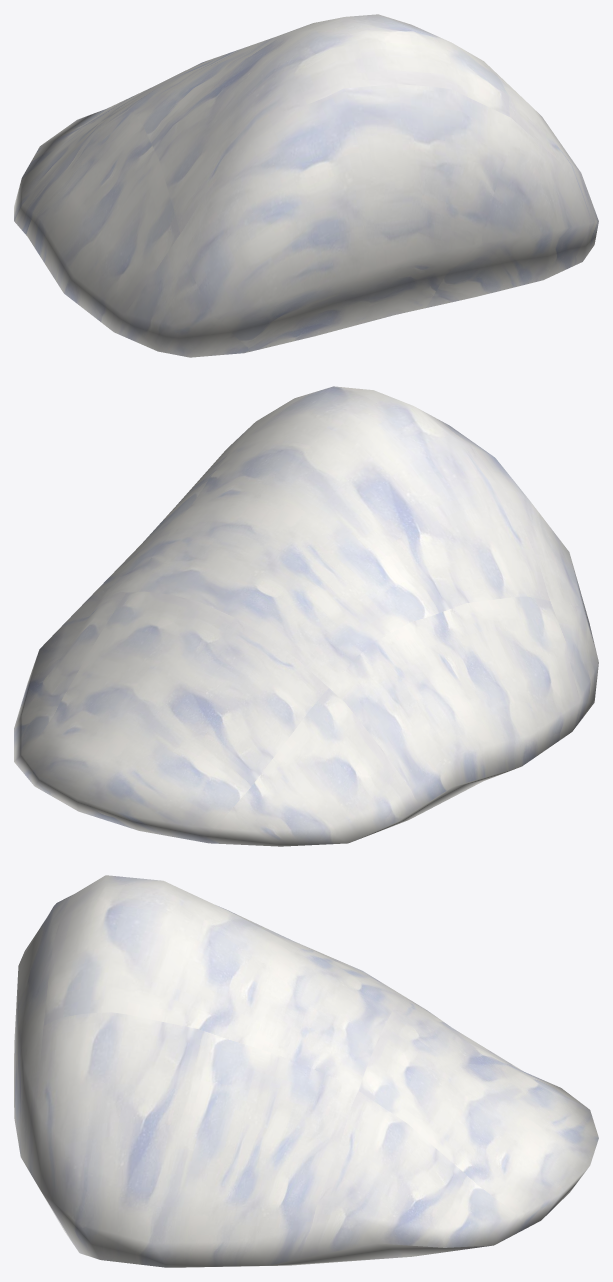
Rendered from snowrocksmall.fbx.
The picture shows the model from 3 angles, top to bottom: view 1: azimuth 30°, elevation 25°; view 2: azimuth 150°, elevation 25°; view 3: azimuth 270°, elevation 25°; orthographic projection.
Visible parts, largest first — view 1: small; view 2: small; view 3: small.
Boxes of the visible parts, bbox=[...] form: small: bbox=[14, 14, 598, 357]; small: bbox=[14, 386, 598, 846]; small: bbox=[14, 875, 598, 1267].
Size of the model in its own units: 4.05 by 2.49 by 4.44.
Materials: 1 (1 with a texture image).
